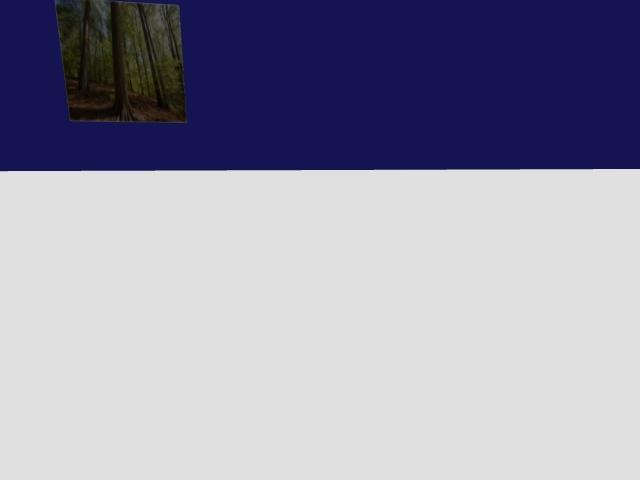tree: (112, 2, 136, 121), (137, 4, 165, 106), (165, 5, 184, 95), (78, 0, 90, 91)
